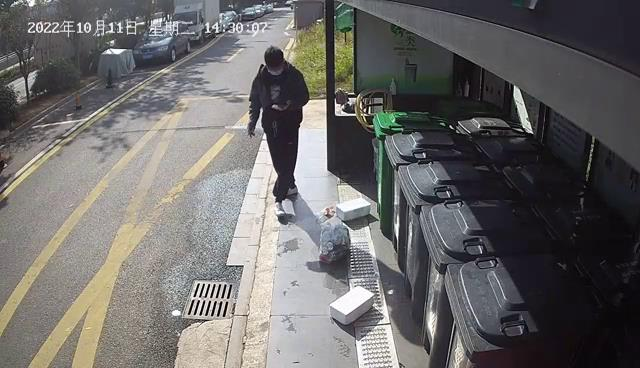person: (245, 44, 311, 216)
suliaozhipin: (317, 215, 351, 265)
zhizhipin: (328, 284, 374, 326), (335, 195, 372, 222)
